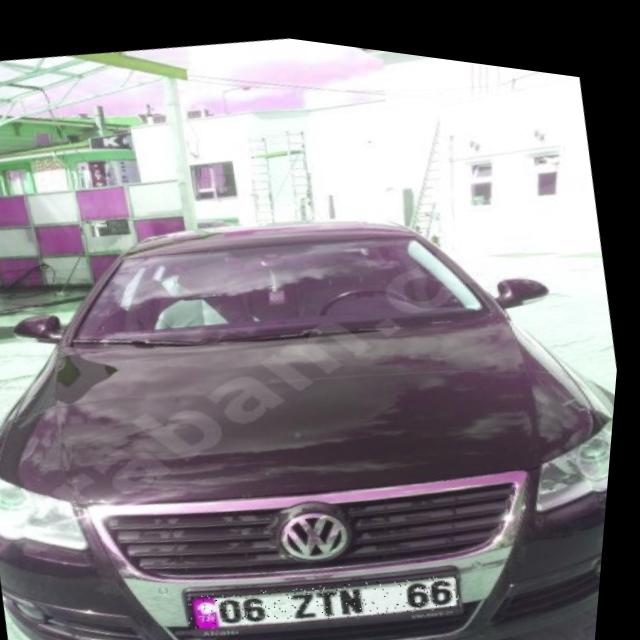license_plate: (193, 532, 471, 640)
